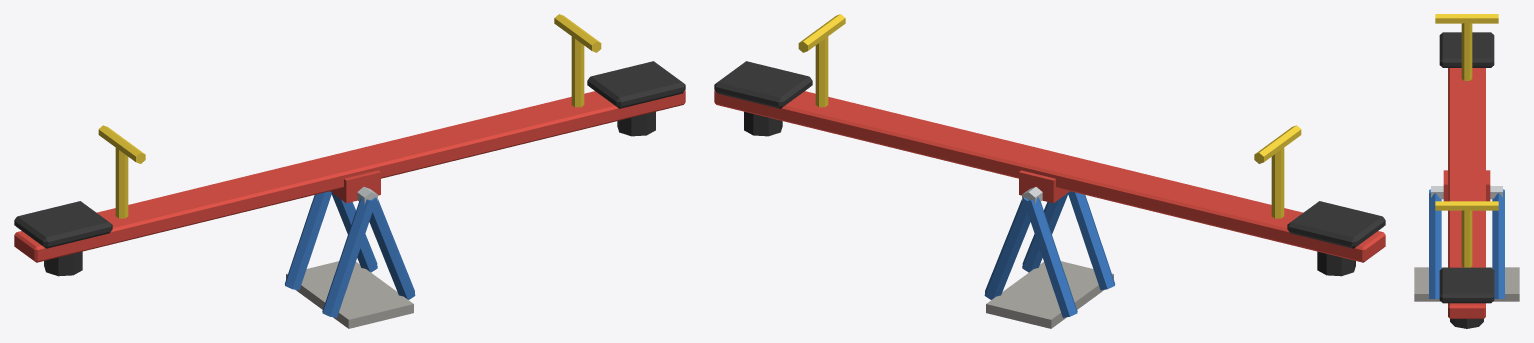
File: seesaw.glb
3 views of the same model, side by side, from view 1: azimuth 30°, elevation 25°; view 2: azimuth 150°, elevation 25°; view 3: azimuth 270°, elevation 25° (orthographic). The views are drawn at different scales.
Visible parts, largest first — view 1: beam, stand; view 2: beam, stand; view 3: beam, stand.
Boxes of the visible parts, left/top/right/bottom form: beam: left=14, top=14, right=685, bottom=276; stand: left=285, top=187, right=415, bottom=328; beam: left=714, top=14, right=1385, bottom=276; stand: left=984, top=187, right=1114, bottom=328; beam: left=1435, top=14, right=1498, bottom=328; stand: left=1414, top=186, right=1519, bottom=301.
Size of the model in its own units: 3 by 0.945 by 0.5.
